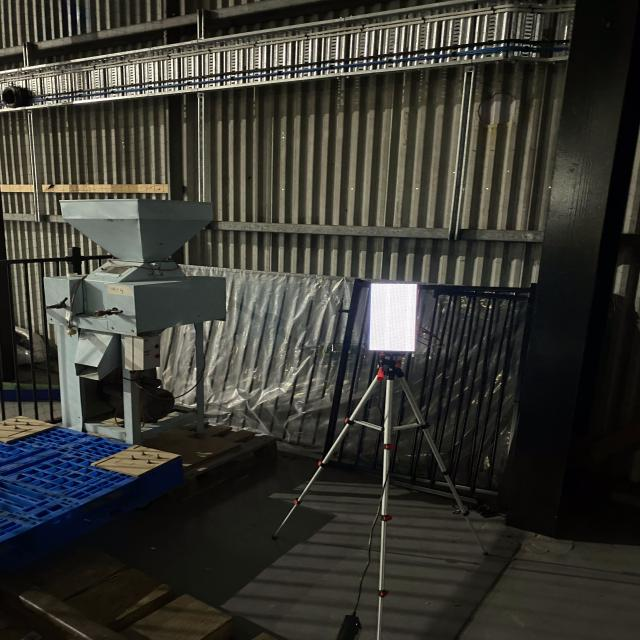matrix: (366, 277, 421, 355)
